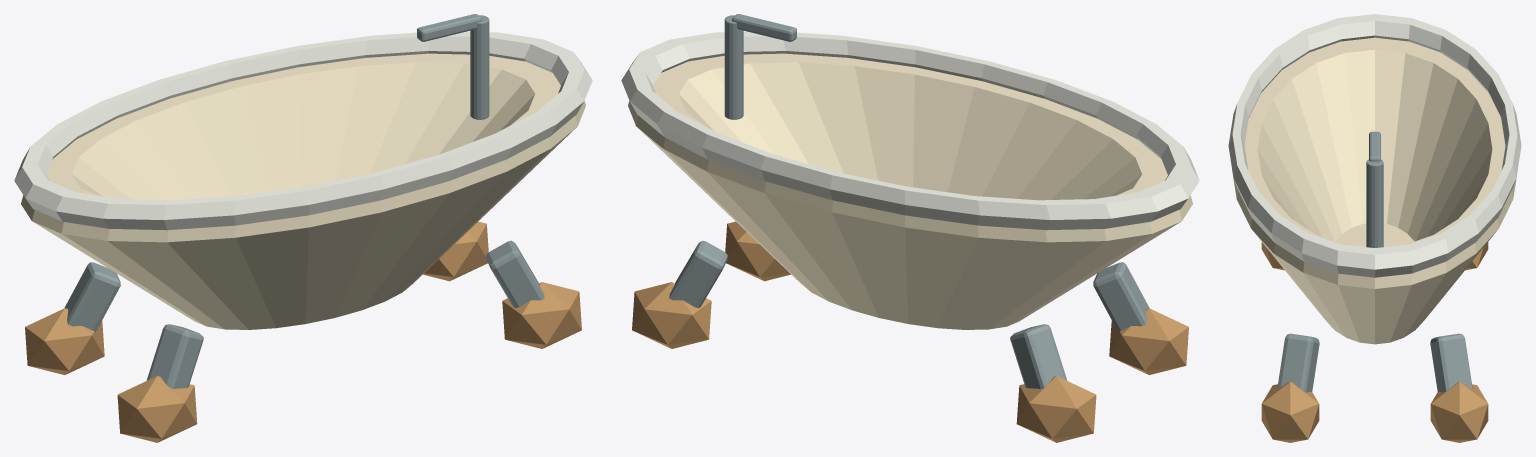
File: S040_clawfoot_tub.glb
3 renders of one model, left to right at view 1: azimuth 30°, elevation 25°; view 2: azimuth 150°, elevation 25°; view 3: azimuth 270°, elevation 25°, orthographic. The views are drawn at different scales.
Visible parts, largest first — view 1: tub_basin, tub_rolled_rim, claw_foot, claw_foot.002, claw_foot.001, claw_leg, claw_leg.001, claw_leg.002, claw_foot.003, faucet_upright, faucet_spout; view 2: tub_basin, tub_rolled_rim, claw_foot.001, claw_foot.003, claw_foot, claw_leg.001, claw_leg, claw_leg.003, claw_foot.002, faucet_upright, faucet_spout; view 3: tub_basin, tub_rolled_rim, claw_foot.002, claw_foot.003, claw_leg.002, claw_leg.003, faucet_upright, tub_basin_bottom, faucet_spout.
Part boxes in pixels (box(x1,y1,x2,y2)): tub_basin: box(21, 53, 585, 329); tub_rolled_rim: box(14, 31, 592, 230); claw_foot: box(117, 376, 197, 442); claw_foot.002: box(502, 282, 581, 348); claw_foot.001: box(25, 308, 104, 374); claw_leg: box(146, 324, 203, 388); claw_leg.001: box(64, 262, 120, 332); claw_leg.002: box(486, 240, 544, 308); claw_foot.003: box(423, 221, 488, 281); faucet_upright: box(470, 15, 489, 119); faucet_spout: box(417, 14, 481, 41); tub_basin: box(628, 53, 1192, 329); tub_rolled_rim: box(621, 31, 1199, 230); claw_foot.001: box(1016, 376, 1096, 442); claw_foot.003: box(632, 282, 711, 348); claw_foot: box(1109, 308, 1188, 374); claw_leg.001: box(1010, 324, 1067, 388); claw_leg: box(1093, 262, 1149, 332); claw_leg.003: box(669, 240, 727, 308); claw_foot.002: box(725, 221, 790, 281); faucet_upright: box(724, 15, 743, 119); faucet_spout: box(732, 14, 796, 41); tub_basin: box(1233, 37, 1516, 344); tub_rolled_rim: box(1228, 14, 1521, 277); claw_foot.002: box(1261, 381, 1319, 442); claw_foot.003: box(1430, 381, 1488, 442); claw_leg.002: box(1277, 333, 1319, 392); claw_leg.003: box(1430, 333, 1472, 392); faucet_upright: box(1366, 159, 1383, 247); tub_basin_bottom: box(1335, 223, 1414, 246); faucet_spout: box(1369, 131, 1380, 161).
Bounding box in the file's own units: 1.73 × 0.9075 × 0.8668.
